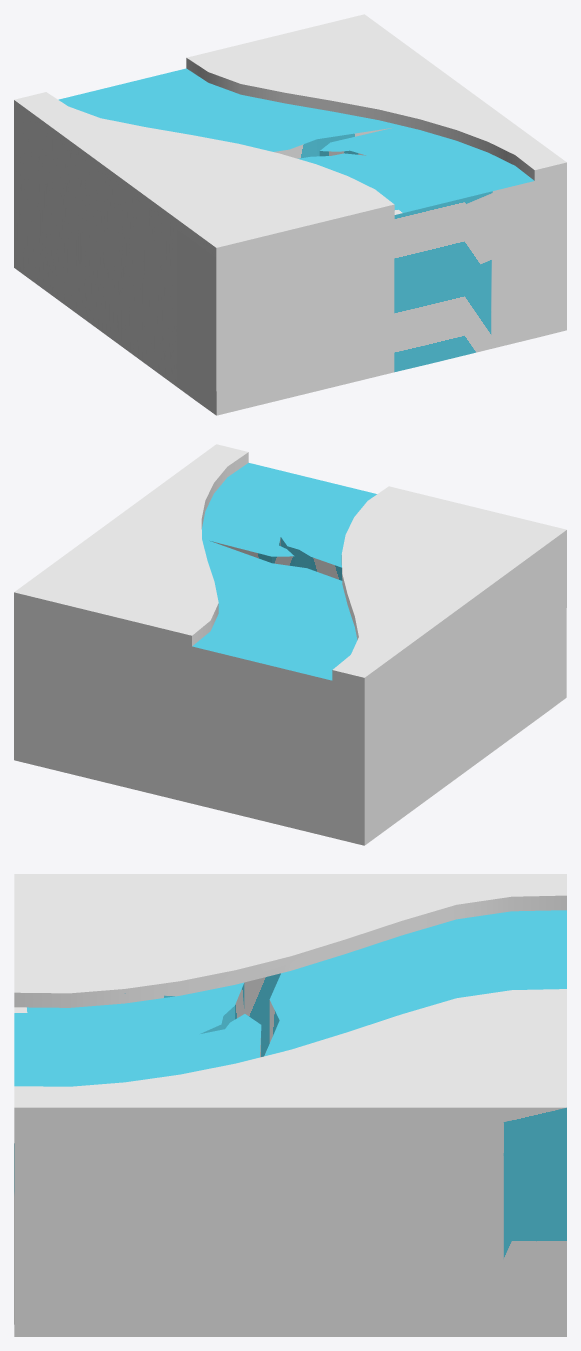
The model's file is sakeme3.fbx.
The picture shows the model from 3 angles, top to bottom: view 1: azimuth 30°, elevation 25°; view 2: azimuth 150°, elevation 25°; view 3: azimuth 270°, elevation 25°; orthographic projection. The views are drawn at different scales.
Parts seen in each view (by area): view 1: pCube1; view 2: pCube1; view 3: pCube1.
Part boxes in pixels (bbox=[...]): pCube1: bbox=[14, 14, 566, 415]; pCube1: bbox=[14, 444, 566, 845]; pCube1: bbox=[14, 874, 566, 1336].
Size of the model in its own units: 24.03 by 11 by 24.05.
Materials: 1 (1 with a texture image).
